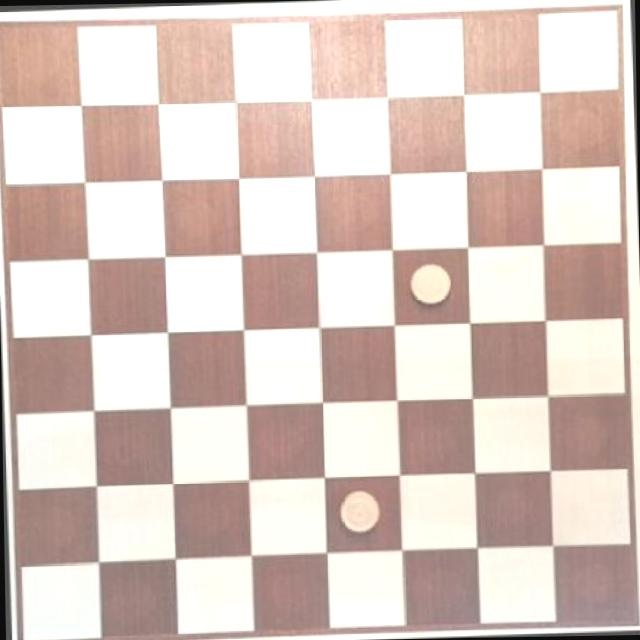BOARD: (0, 13, 638, 634)
white: (402, 260, 462, 310), (331, 486, 386, 539)
